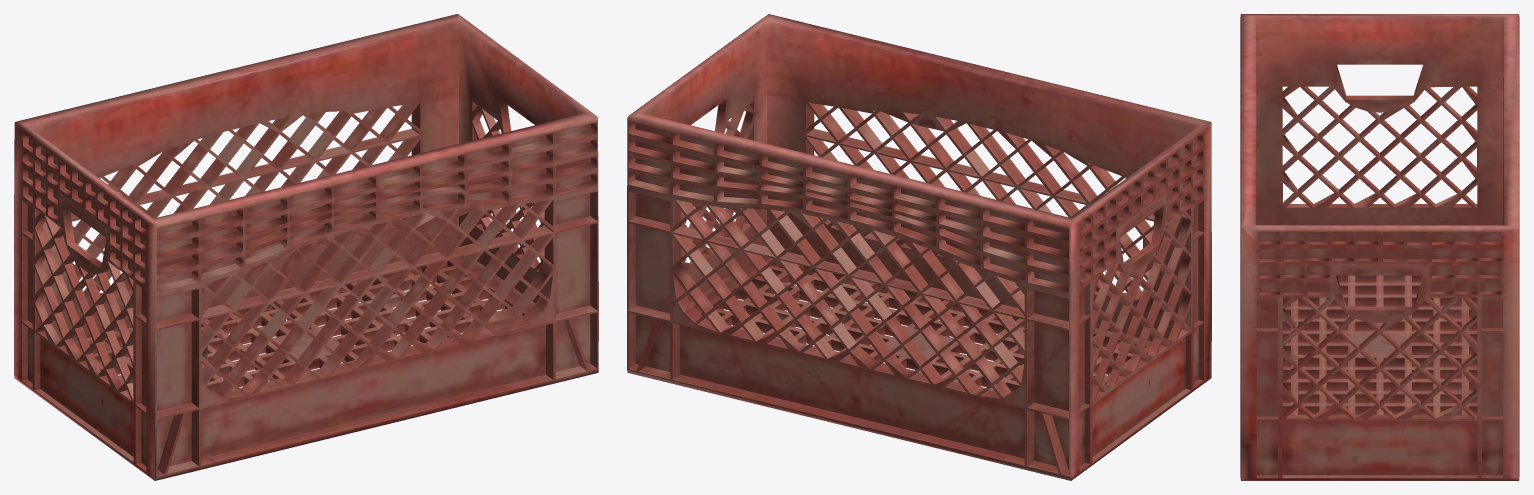
File: cratePlastic2.glb
The picture shows the model from 3 angles, left to right: view 1: azimuth 30°, elevation 25°; view 2: azimuth 150°, elevation 25°; view 3: azimuth 270°, elevation 25°; orthographic projection.
Visible parts, largest first — view 1: plastic_crate_03; view 2: plastic_crate_03; view 3: plastic_crate_03.
Part boxes in pixels (x1=…): plastic_crate_03: x1=14, y1=14, x2=598, y2=480; plastic_crate_03: x1=627, y1=14, x2=1211, y2=480; plastic_crate_03: x1=1240, y1=14, x2=1519, y2=480.
Size of the model in its own units: 0.4811 by 0.2652 by 0.265.
1 material, 1 textured.
